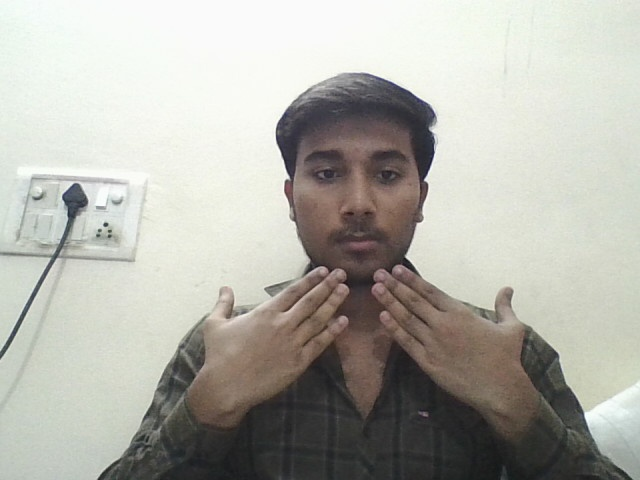thanks: (141, 262, 581, 437)
